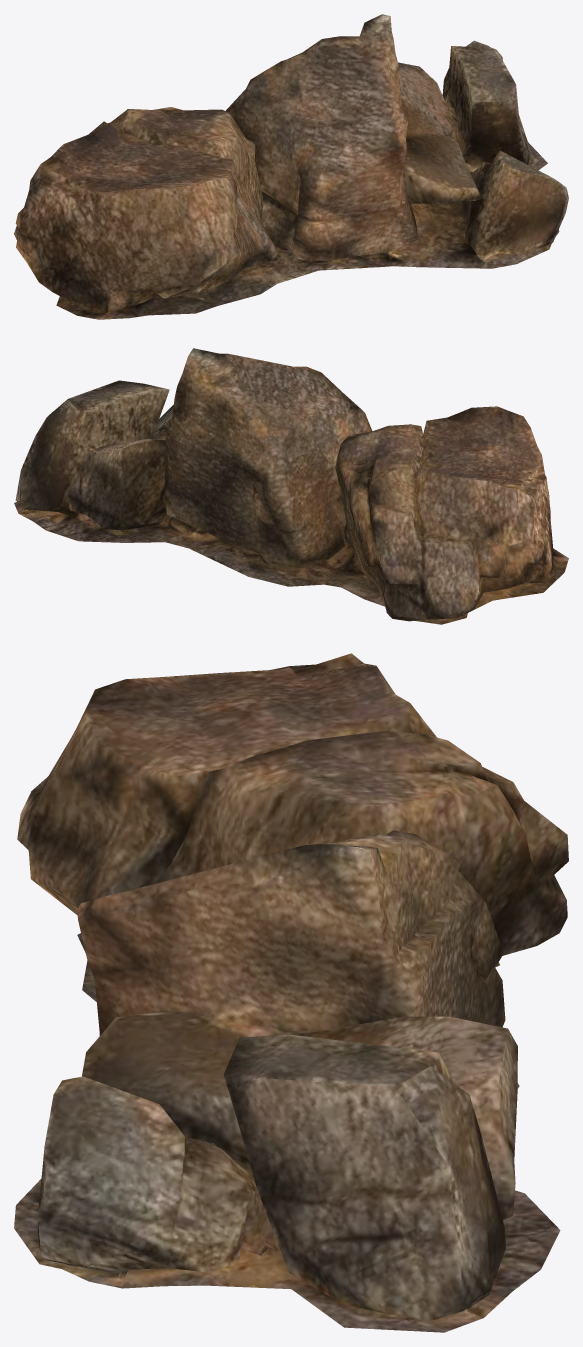
File: boulder.glb
3 views of the same model, one above another, from view 1: azimuth 30°, elevation 25°; view 2: azimuth 150°, elevation 25°; view 3: azimuth 270°, elevation 25° (orthographic). The views are drawn at different scales.
Visible parts, largest first — view 1: boulder_02; view 2: boulder_02; view 3: boulder_02.
Boxes of the visible parts, <box> form: boulder_02: <box>14,14,568,319</box>; boulder_02: <box>14,348,568,624</box>; boulder_02: <box>14,653,568,1332</box>.
Size of the model in its own units: 2.51 by 0.8697 by 1.23.
Materials: 1 (1 with a texture image).
